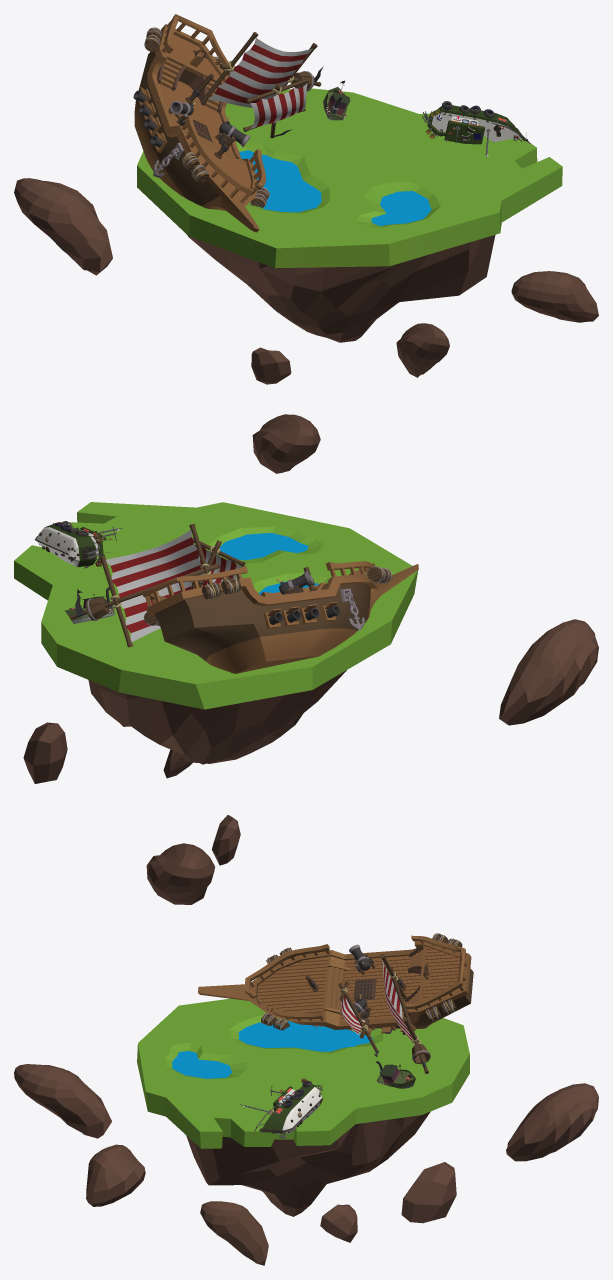
The model's file is skull_island.glb.
3 views of the same model, one above another, from view 1: azimuth 30°, elevation 25°; view 2: azimuth 150°, elevation 25°; view 3: azimuth 270°, elevation 25° (orthographic). The views are drawn at different scales.
Visible parts, largest first — view 1: Cube.001, камень, корабль, мачта 2, Plane, polySurface241_Mesh.729, мачта 1; view 2: Cube.001, камень, корабль, мачта 2, polySurface241_Mesh.729, Plane, мачта 1; view 3: Cube.001, камень, корабль, Plane, polySurface241_Mesh.729, мачта 2, мачта 1.
Part boxes in pixels (box(x1,y1,x2,y2)): Cube.001: box(137, 88, 562, 268); камень: box(14, 178, 598, 473); корабль: box(133, 14, 269, 232); мачта 2: box(201, 32, 323, 107); Plane: box(239, 150, 431, 225); polySurface241_Mesh.729: box(422, 101, 530, 157); мачта 1: box(243, 78, 308, 138); Cube.001: box(14, 502, 418, 709); камень: box(23, 619, 598, 904); корабль: box(142, 561, 418, 673); мачта 2: box(69, 523, 219, 647); polySurface241_Mesh.729: box(35, 521, 122, 568); Plane: box(219, 533, 319, 595); мачта 1: box(192, 537, 245, 584); Cube.001: box(137, 998, 469, 1148); камень: box(14, 1064, 598, 1265); корабль: box(198, 933, 473, 1034); Plane: box(172, 1020, 373, 1078); polySurface241_Mesh.729: box(240, 1078, 323, 1138); мачта 2: box(380, 954, 430, 1073); мачта 1: box(338, 981, 379, 1056).
Bounding box in the file's own units: 89.18 × 73.17 × 133.
26 materials, 7 textured.
